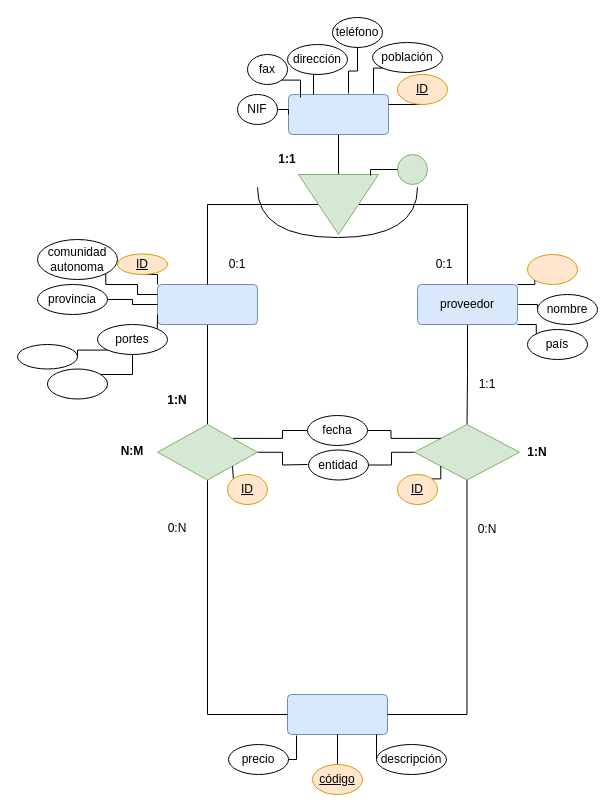
Some shapes in this 615 by 812 pixel diagram are drawn without their labels. Here are the shapes that lost their labels. From the top down, the centre of each, then its label:
At point (338, 114): "empresa".
At point (412, 169): "tipo".
At point (552, 269): "CIF".
At point (207, 304): "cliente".
At point (47, 356): "debidos".
At point (77, 383): "pagados".
At point (207, 452): "compra".
At point (467, 452): "provee".
At point (337, 714): "producto".
